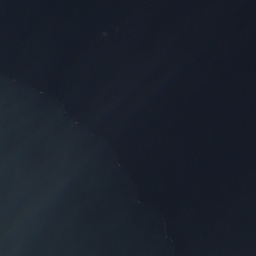Marine Debris: (71, 118, 99, 140), (135, 199, 145, 207), (39, 91, 44, 95)
